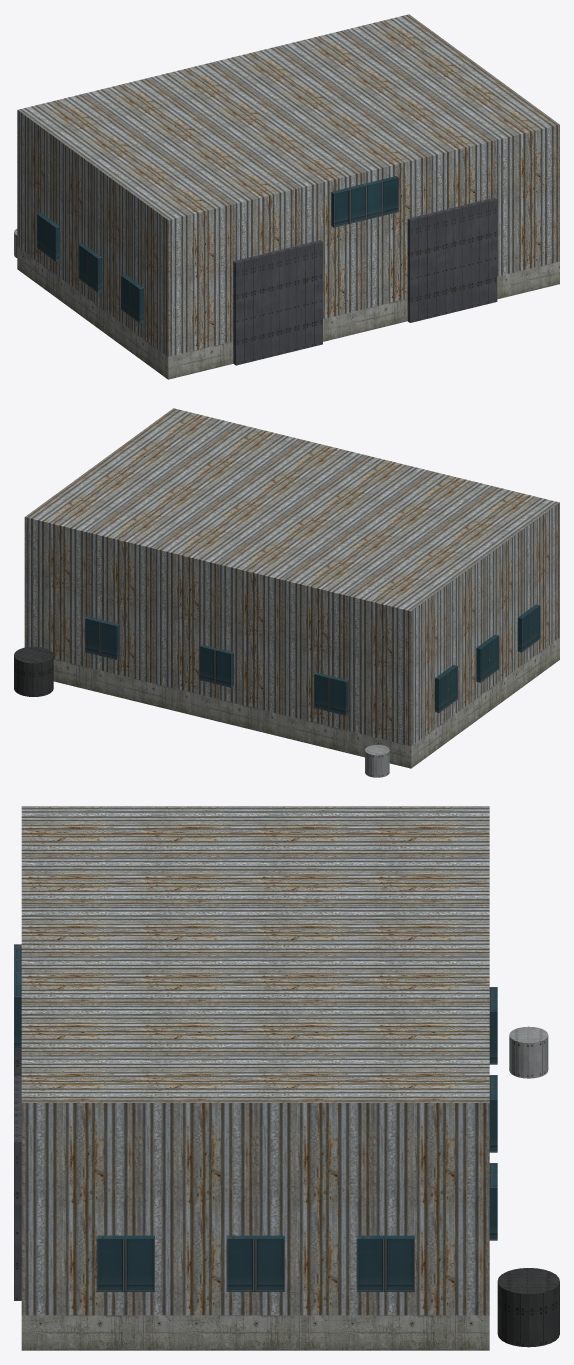
File: farm-workshop_lod0.gltf
3 renders of one model, top to bottom at view 1: azimuth 30°, elevation 25°; view 2: azimuth 150°, elevation 25°; view 3: azimuth 270°, elevation 25°, orthographic. The views are drawn at different scales.
Parts seen in each view (by area): view 1: farm-workshop_upper, farm-workshop__bay_door_b, farm-workshop__bay_door_a, farm-workshop_base, farm-workshop_fen_07-glass-curtain-blue_0; view 2: farm-workshop_upper, farm-workshop_base, farm-workshop_fen_07-glass-curtain-blue_0, farm-workshop__tire_stacks, farm-workshop__fuel_drums; view 3: farm-workshop_upper, farm-workshop_base, farm-workshop_fen_07-glass-curtain-blue_0, farm-workshop__tire_stacks, farm-workshop__fuel_drums, farm-workshop__bay_door_b.
Boxes of the visible parts, <box> form: farm-workshop_upper: <box>17,14,559,356</box>; farm-workshop__bay_door_b: <box>407,197,497,322</box>; farm-workshop__bay_door_a: <box>233,240,322,365</box>; farm-workshop_base: <box>17,247,559,379</box>; farm-workshop_fen_07-glass-curtain-blue_0: <box>37,176,399,322</box>; farm-workshop_upper: <box>24,408,559,745</box>; farm-workshop_base: <box>53,637,559,768</box>; farm-workshop_fen_07-glass-curtain-blue_0: <box>85,604,540,715</box>; farm-workshop__tire_stacks: <box>14,646,53,696</box>; farm-workshop__fuel_drums: <box>365,745,389,777</box>; farm-workshop_upper: <box>21,806,489,1315</box>; farm-workshop_base: <box>21,1315,489,1350</box>; farm-workshop_fen_07-glass-curtain-blue_0: <box>14,947,497,1291</box>; farm-workshop__tire_stacks: <box>497,1268,559,1347</box>; farm-workshop__fuel_drums: <box>509,1026,548,1078</box>; farm-workshop__bay_door_b: <box>14,1076,21,1300</box>.
Size of the model in its own units: 18.4 by 7 by 14.
